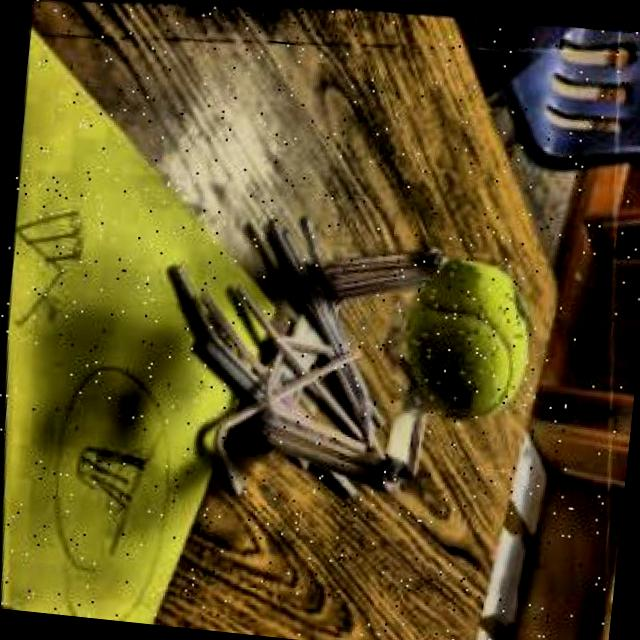Tennis Ball: (373, 252, 538, 427)
